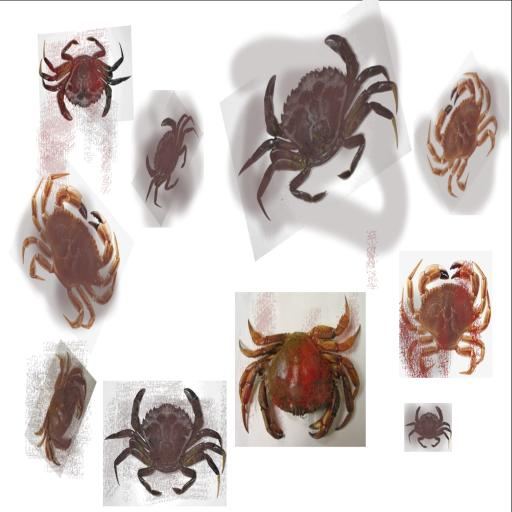green crab: (238, 30, 404, 226), (107, 384, 225, 501), (37, 19, 134, 139), (136, 102, 204, 219), (403, 403, 452, 451)
joe crab: (15, 166, 126, 339), (402, 248, 492, 380), (424, 64, 500, 206)
rock crab: (234, 288, 366, 448), (27, 347, 97, 465)
